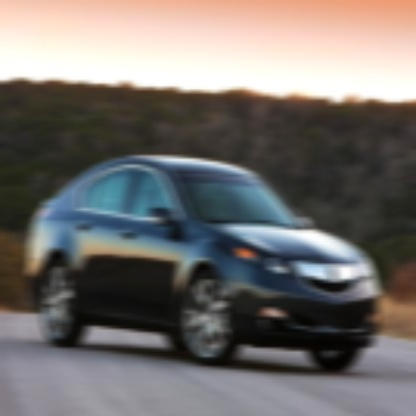Vehicle: (25, 153, 382, 370)
